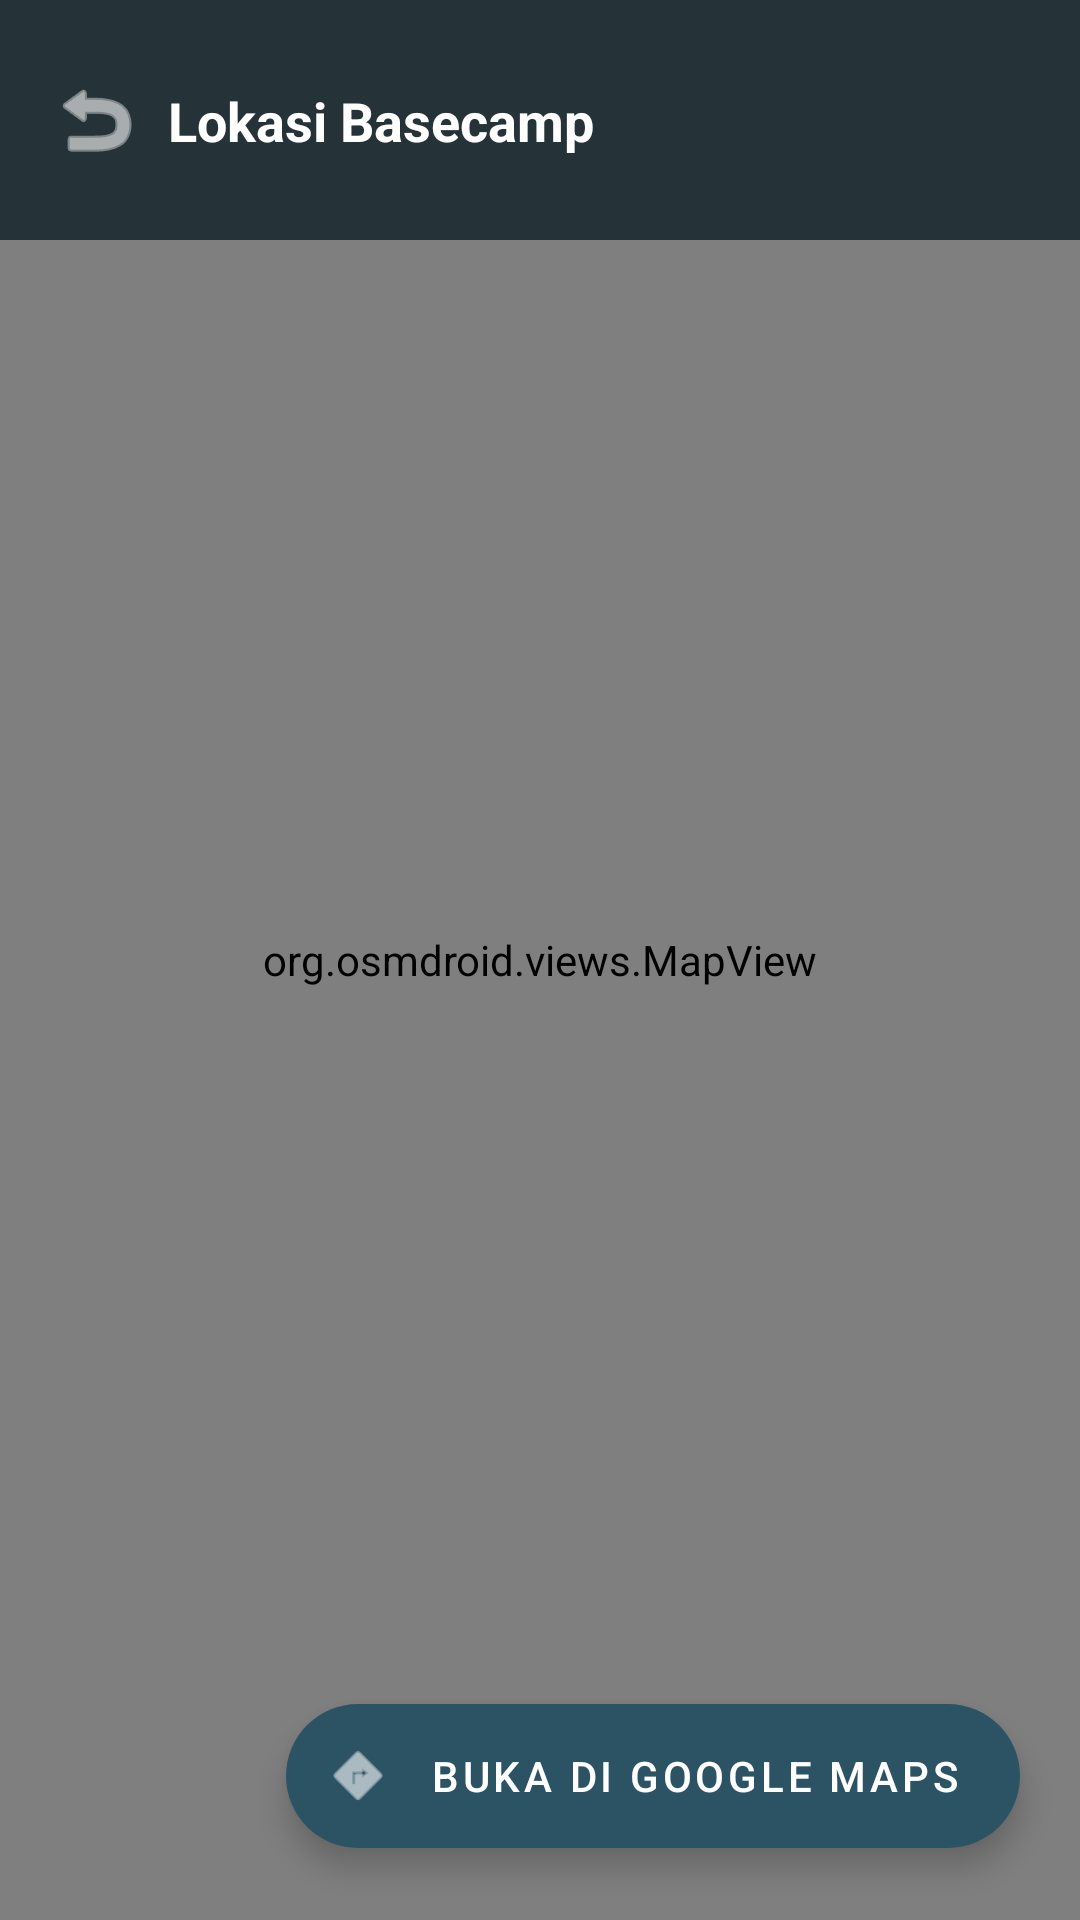

Named icons in this screenshot (1080w x 1920h) and their bounding boxes, (x1, y1, x2, y2):
Kembali: (63, 89, 132, 152)
